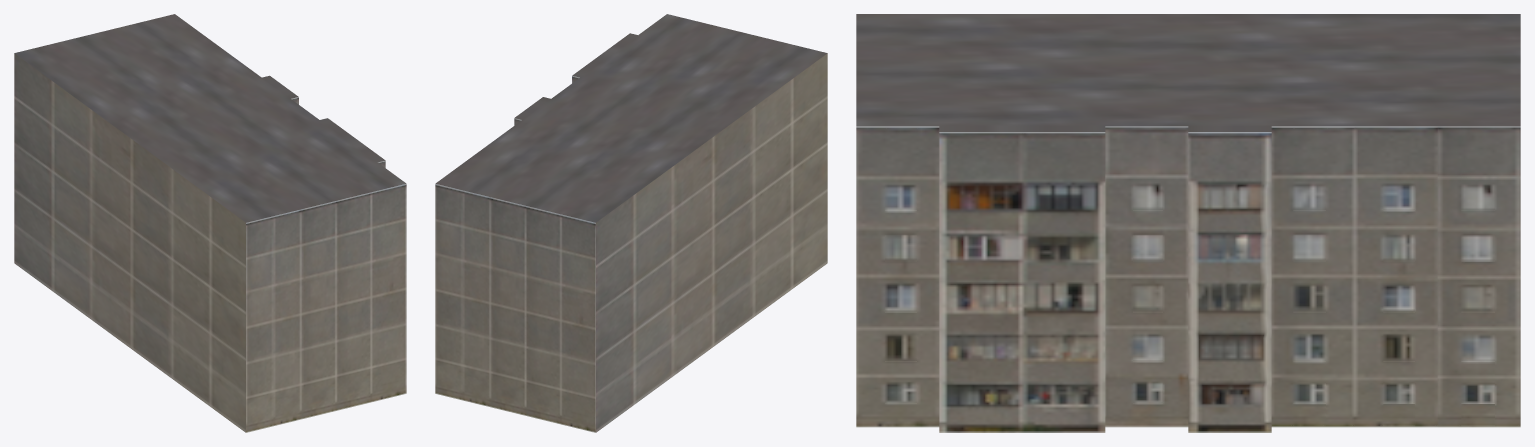
File: dom3.glb
The picture shows the model from 3 angles, left to right: view 1: azimuth 30°, elevation 25°; view 2: azimuth 150°, elevation 25°; view 3: azimuth 270°, elevation 25°; orthographic projection. The views are drawn at different scales.
Parts seen in each view (by area): view 1: Cube; view 2: Cube; view 3: Cube.
Boxes of the visible parts, bbox=[...] form: Cube: bbox=[14, 14, 406, 432]; Cube: bbox=[435, 14, 827, 432]; Cube: bbox=[856, 14, 1520, 432].
Size of the model in its own units: 1.68 by 2 by 4.
Materials: 1 (1 with a texture image).
